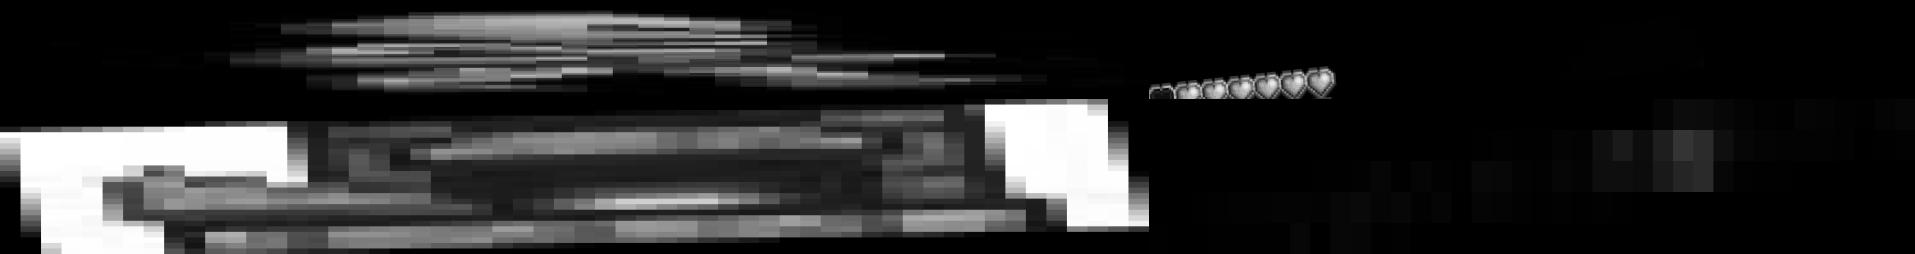eye: (1169, 99, 1915, 254)
furnace: (62, 99, 1108, 254)
zombie: (0, 0, 1149, 99)
